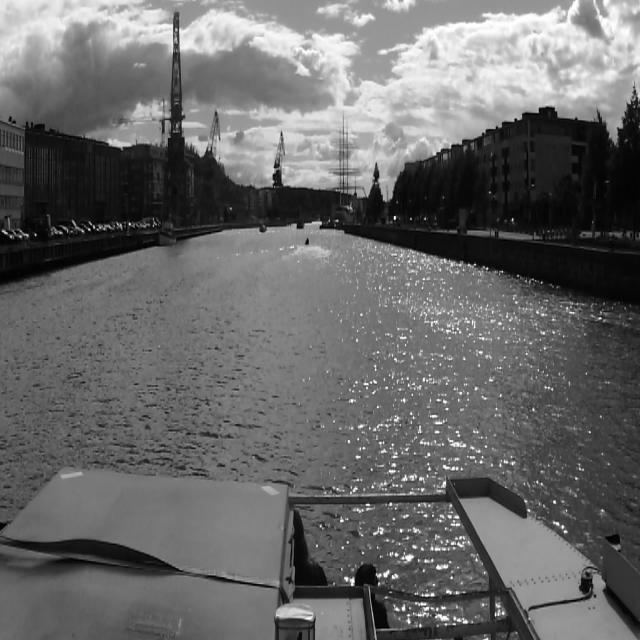ship: (330, 110, 358, 216), (254, 161, 267, 235), (157, 220, 177, 248), (294, 214, 306, 231), (305, 237, 309, 247)
